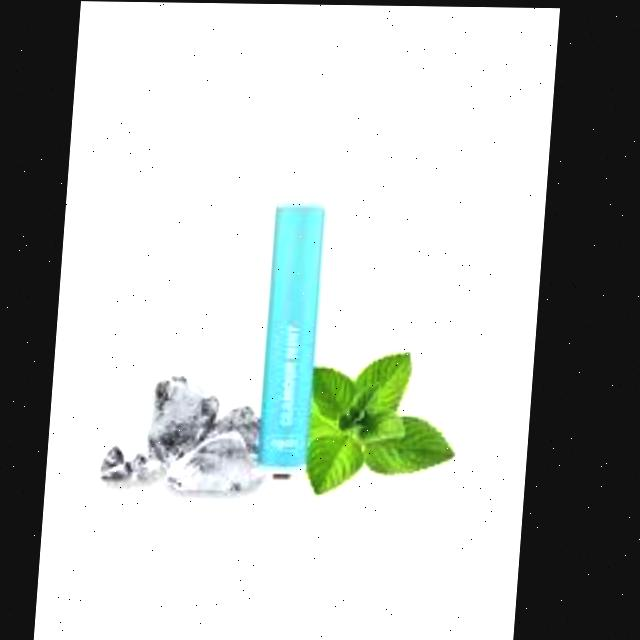vape: (262, 158, 332, 481)
